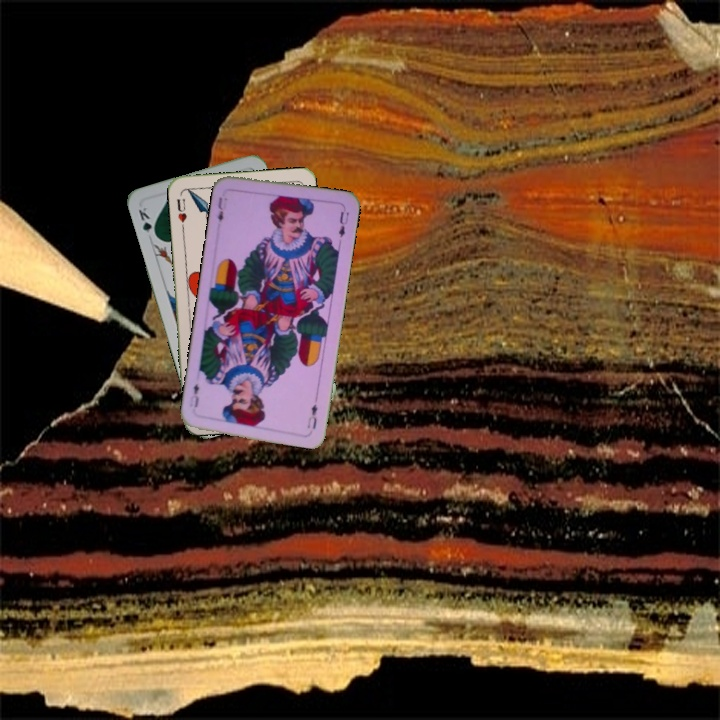EU: (303, 392, 320, 431), (213, 193, 226, 225)
GK: (134, 203, 159, 243)
HU: (173, 195, 189, 231)
